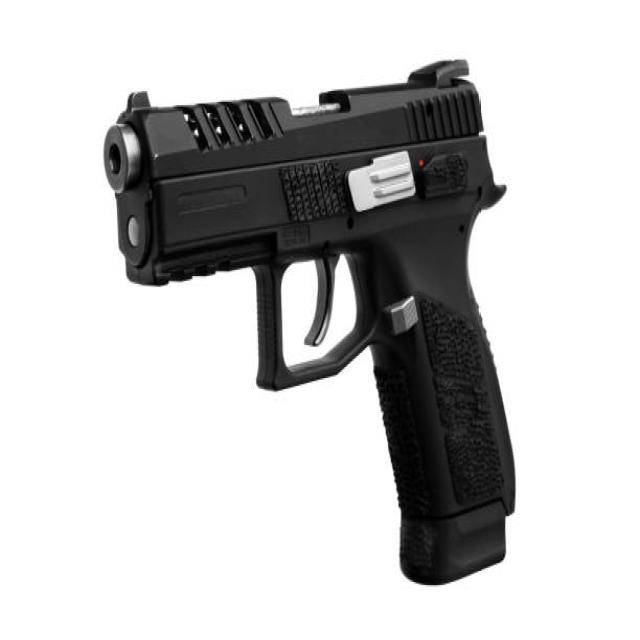pistol: (97, 47, 523, 597)
